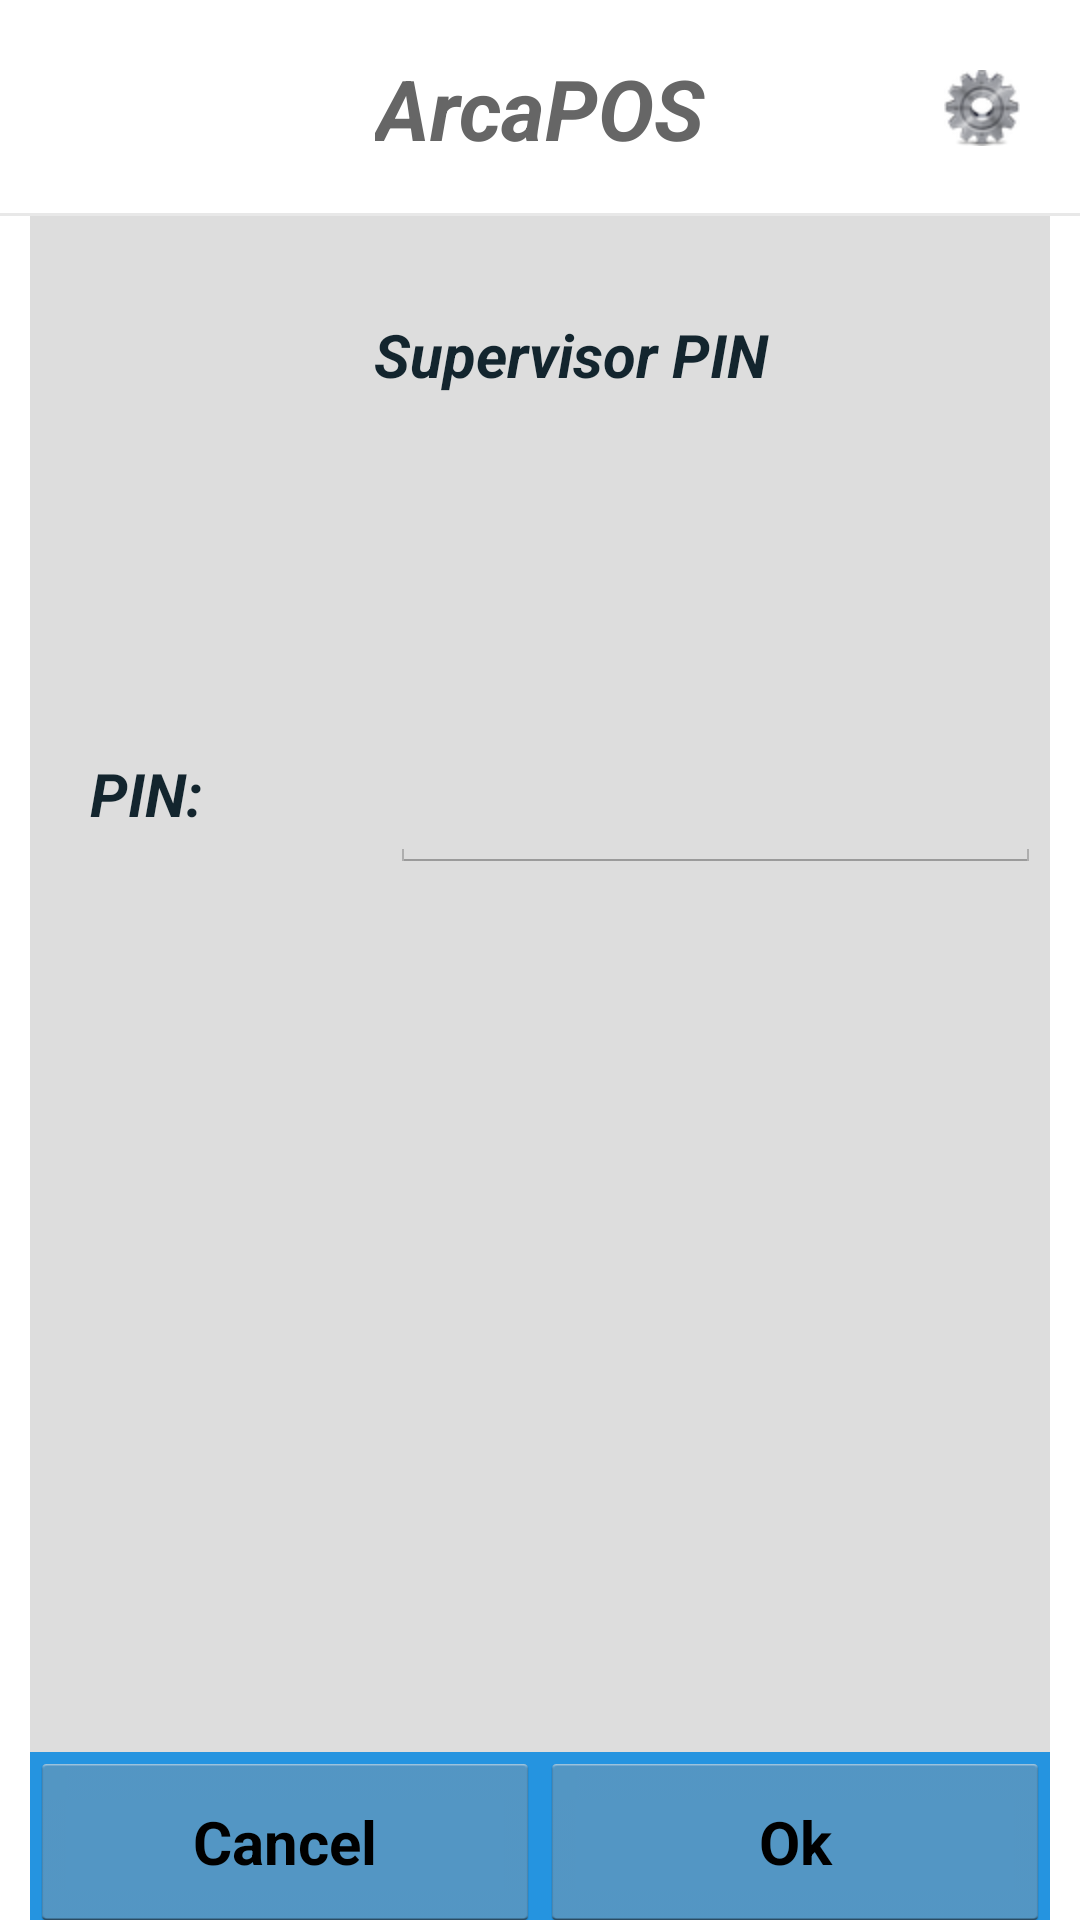

Locate icon controls on the screen. Image size 1080×1920, boxes as {"left": x1, "top": y1, "right": x2, "bottom": y2}.
settings: {"left": 944, "top": 70, "right": 1020, "bottom": 146}
